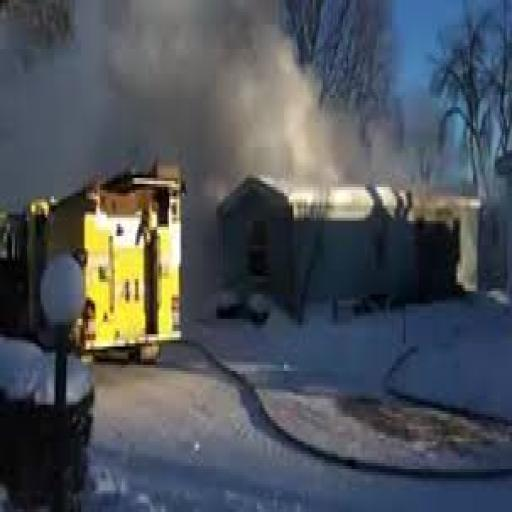smoke: (112, 21, 331, 175)
